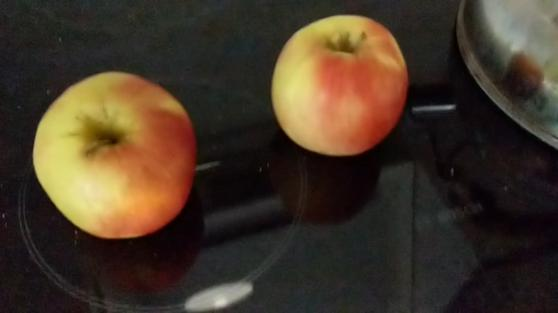apple: (30, 70, 196, 238), (268, 14, 409, 156)
